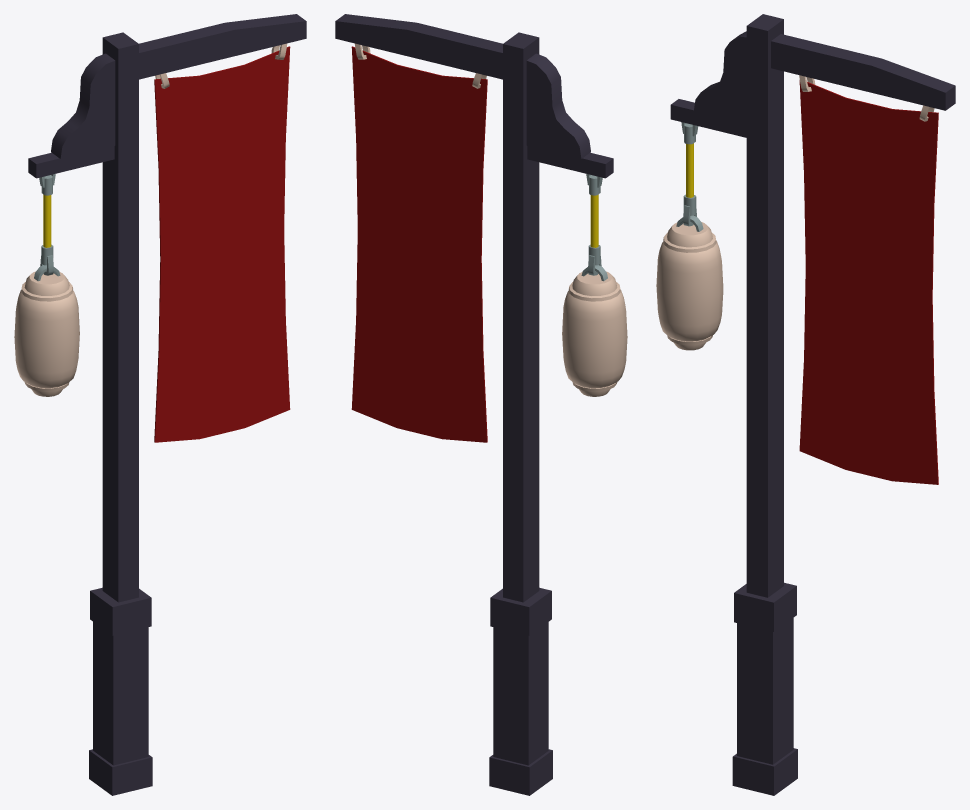
File: lamppost_02.fbx
The picture shows the model from 3 angles, left to right: view 1: azimuth 30°, elevation 25°; view 2: azimuth 150°, elevation 25°; view 3: azimuth 330°, elevation 25°; orthographic projection. The views are drawn at different scales.
Visible parts, largest first — view 1: lamppost_02; view 2: lamppost_02; view 3: lamppost_02.
Boxes of the visible parts, x1,y1,x2,y2 form: lamppost_02: (14, 14, 306, 795); lamppost_02: (335, 14, 627, 795); lamppost_02: (656, 14, 955, 795).
Bounding box in the file's own units: 157 × 394 × 31.8.
